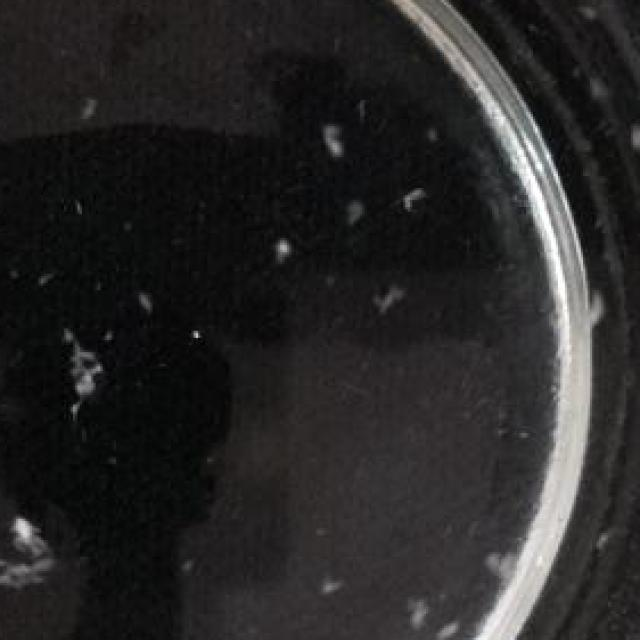Microplastic: (0, 490, 75, 614), (41, 312, 114, 412), (392, 157, 446, 224), (369, 252, 419, 321), (337, 169, 380, 233), (396, 580, 442, 638), (314, 554, 348, 618), (310, 107, 344, 162), (123, 276, 164, 321), (428, 602, 472, 640), (266, 231, 303, 271), (622, 105, 640, 157), (80, 86, 102, 126)
